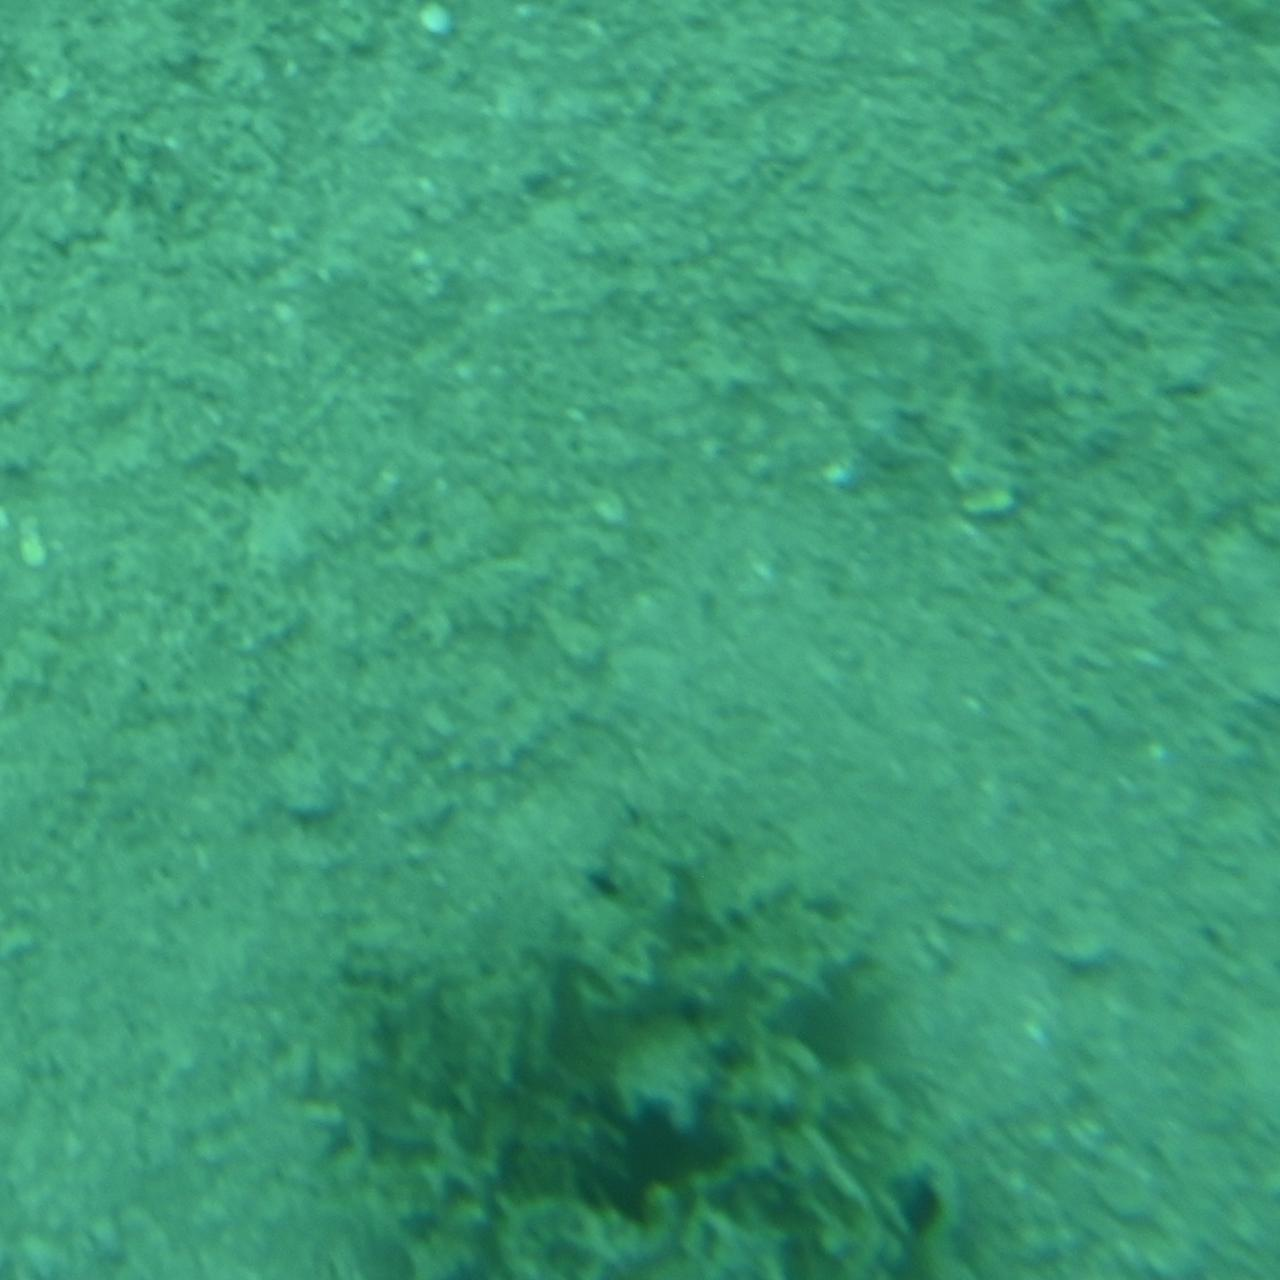Phaeophyceae -cfr Cystoseira-: (300, 795, 980, 1279)
